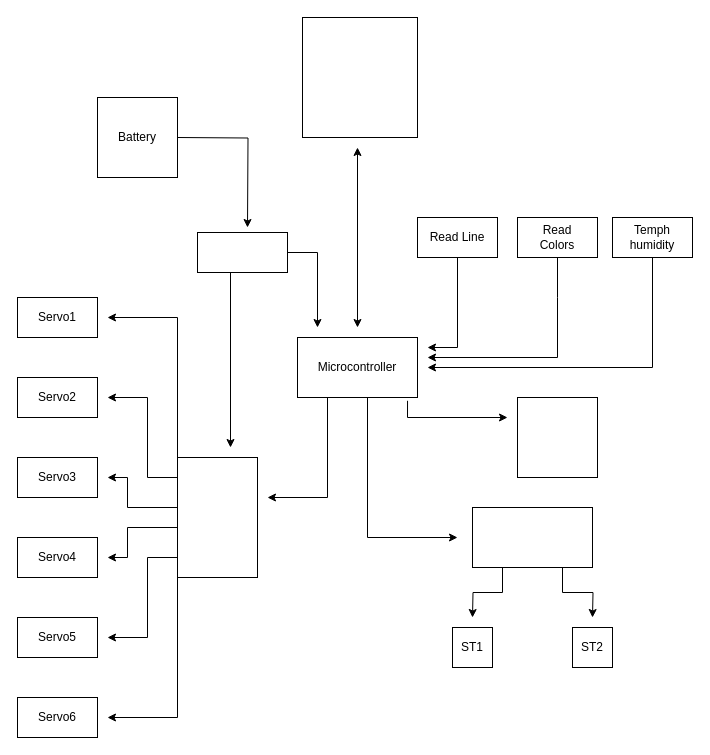
Some shapes in this 710 by 755 pixel diagram are drawn without their labels. The shapes that lost their labels are listed below. From the top down, each one's centre as x and y in pixels, then its label:
point 360,77: Devices control
point 242,252: DC-DC converter
point 557,437: LED Status
point 217,517: Servo Master
point 532,537: Driver Motors
